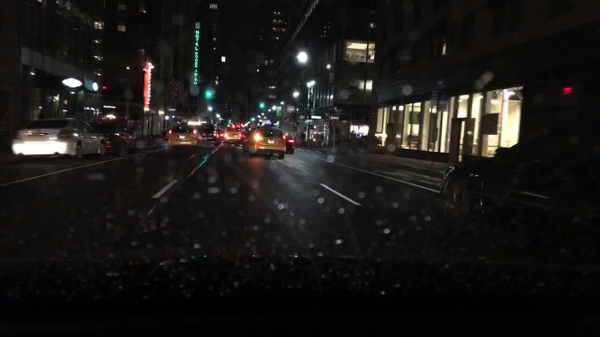car: (439, 116, 599, 251), (13, 118, 107, 160), (242, 121, 286, 159), (93, 122, 139, 154), (168, 120, 203, 148), (213, 123, 245, 146), (199, 122, 220, 142), (283, 132, 298, 153), (240, 119, 260, 133)
person: (1, 110, 12, 151), (319, 131, 325, 147), (314, 132, 320, 146)
traffic light: (557, 82, 576, 102), (205, 88, 213, 97), (101, 84, 110, 92), (259, 103, 266, 110), (172, 90, 179, 97), (227, 118, 233, 125), (284, 117, 291, 122)
traffic sign: (439, 89, 447, 111), (431, 89, 437, 109), (437, 75, 447, 86), (310, 115, 321, 121), (276, 107, 282, 117), (286, 105, 294, 112), (168, 107, 175, 113), (329, 116, 340, 119), (308, 122, 314, 125)
